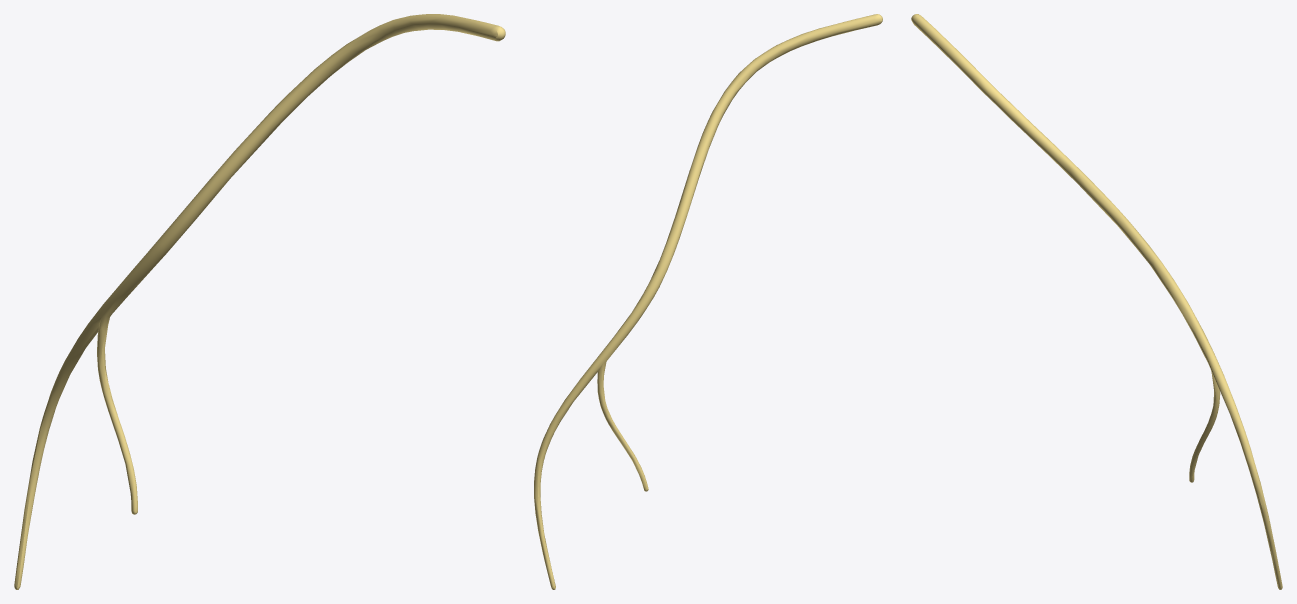
File: fma77524_fj4000.glb
3 views of the same model, side by side, from view 1: azimuth 90°, elevation 25°; view 2: azimuth 150°, elevation 25°; view 3: azimuth 270°, elevation 25° (orthographic). The views are drawn at different scales.
Visible parts, largest first — view 1: FMA77524_FJ4000; view 2: FMA77524_FJ4000; view 3: FMA77524_FJ4000.
Part boxes in pixels (<box>): FMA77524_FJ4000: <box>14,14,505,589</box>; FMA77524_FJ4000: <box>534,14,882,589</box>; FMA77524_FJ4000: <box>911,14,1282,589</box>.
Bounding box in the file's own units: 0.0125 × 0.0319 × 0.0215.
